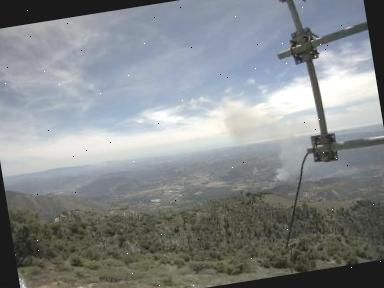smoke: (218, 85, 312, 188)
